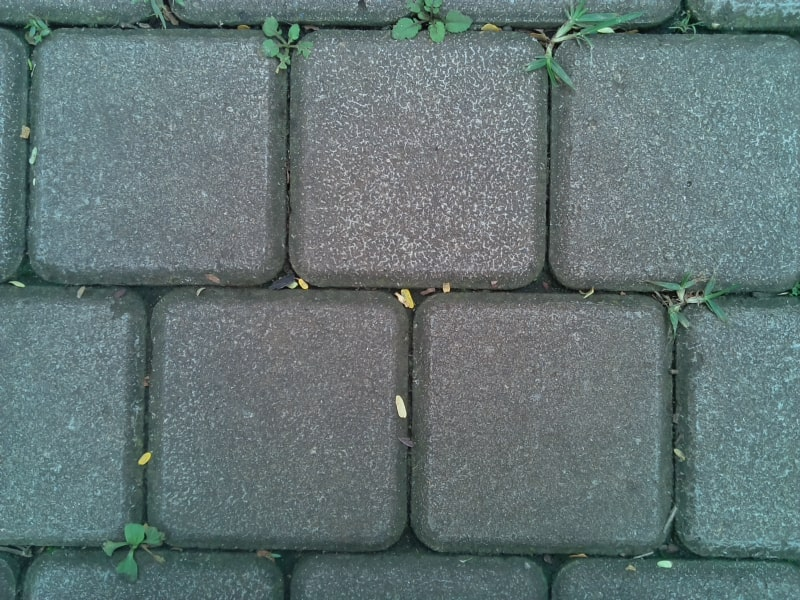Weed: (529, 4, 632, 84), (648, 273, 727, 332), (389, 1, 474, 44), (106, 523, 166, 578), (259, 15, 313, 67), (24, 12, 52, 46), (673, 11, 703, 41)
